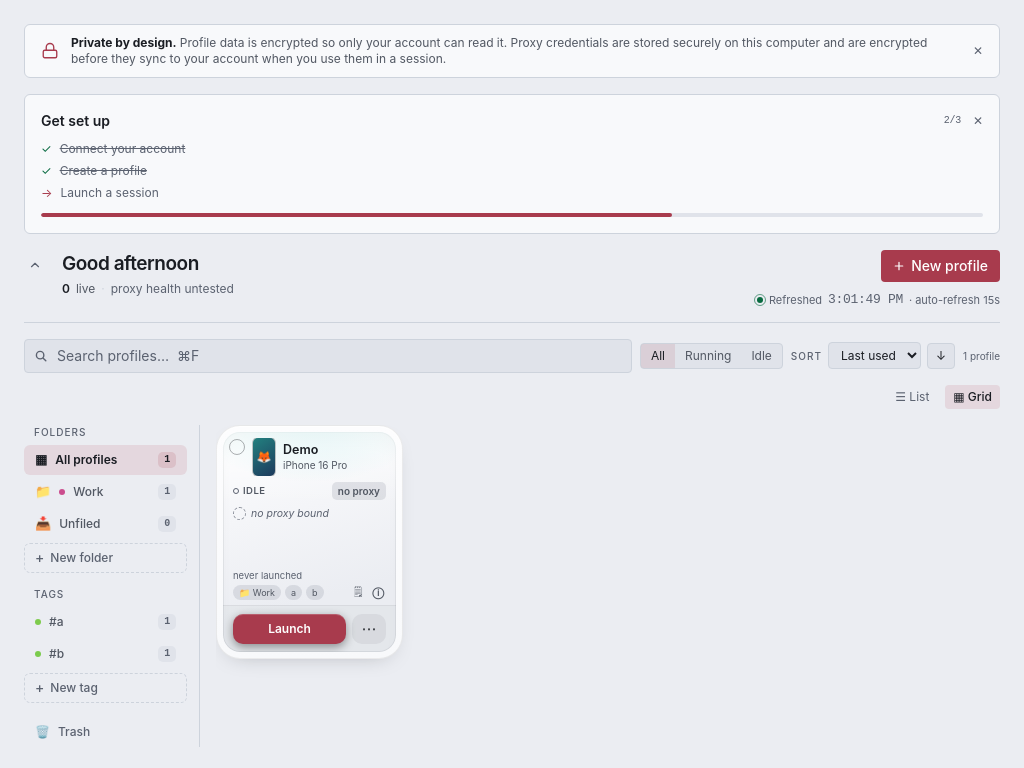
ProfilesView profile-lifecycle actions › Storage + Trim › every clear scope is reachable from the card menu, one disclosure deep
Click the button named "More actions" at (369, 628), box [352, 614, 386, 644]
(page scrolled)
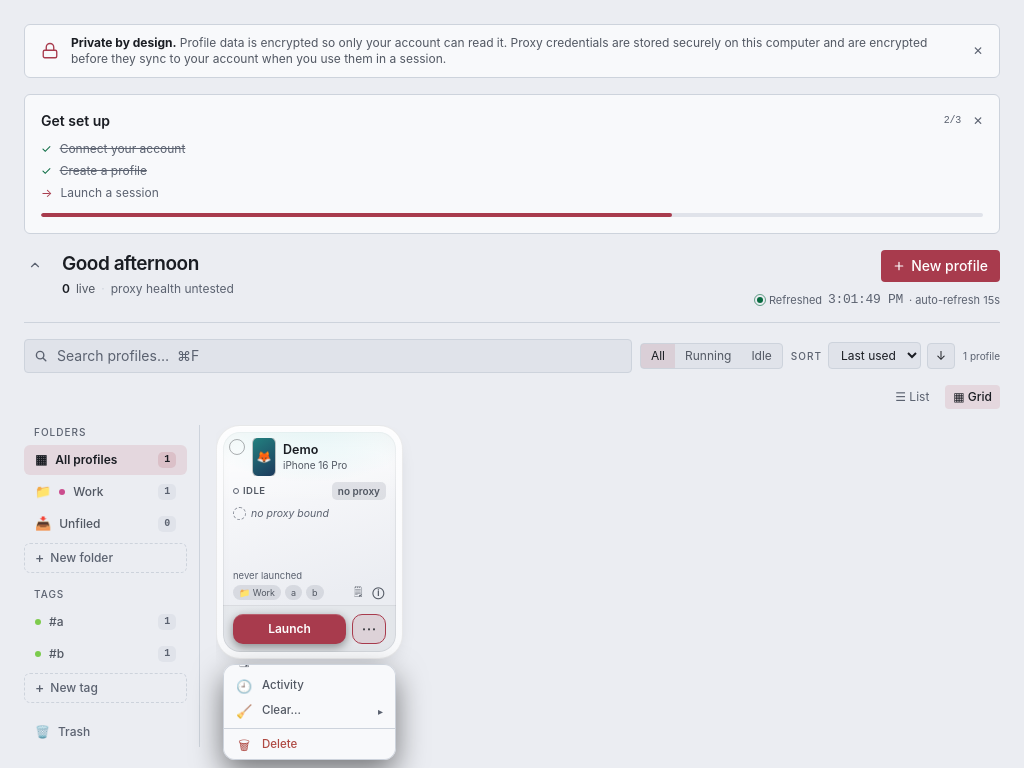
Click the button with aria-label "Clearing options for " at (310, 711), box [224, 698, 395, 724]
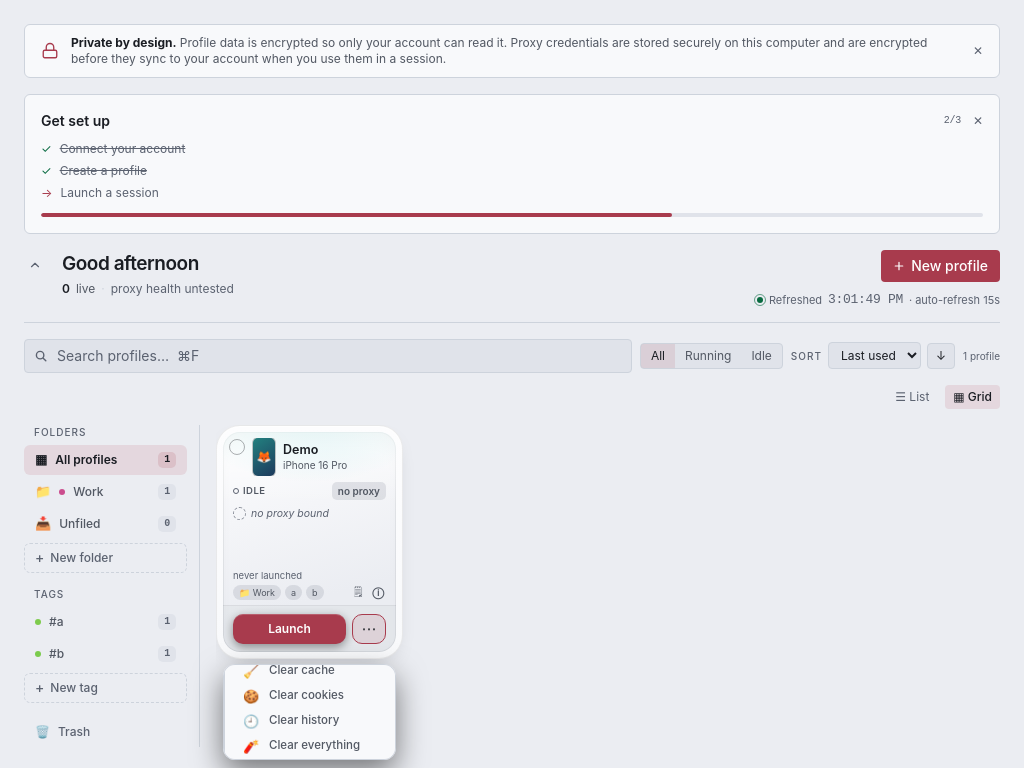
Expected: the button with aria-label "Clear cache for Demo" is shown, [231, 664, 395, 684]
Expected: the button with aria-label "Clear cookies for Demo" is shown, [231, 684, 395, 708]
Expected: the button with aria-label "Clear history for Demo" is shown, [231, 708, 395, 734]
